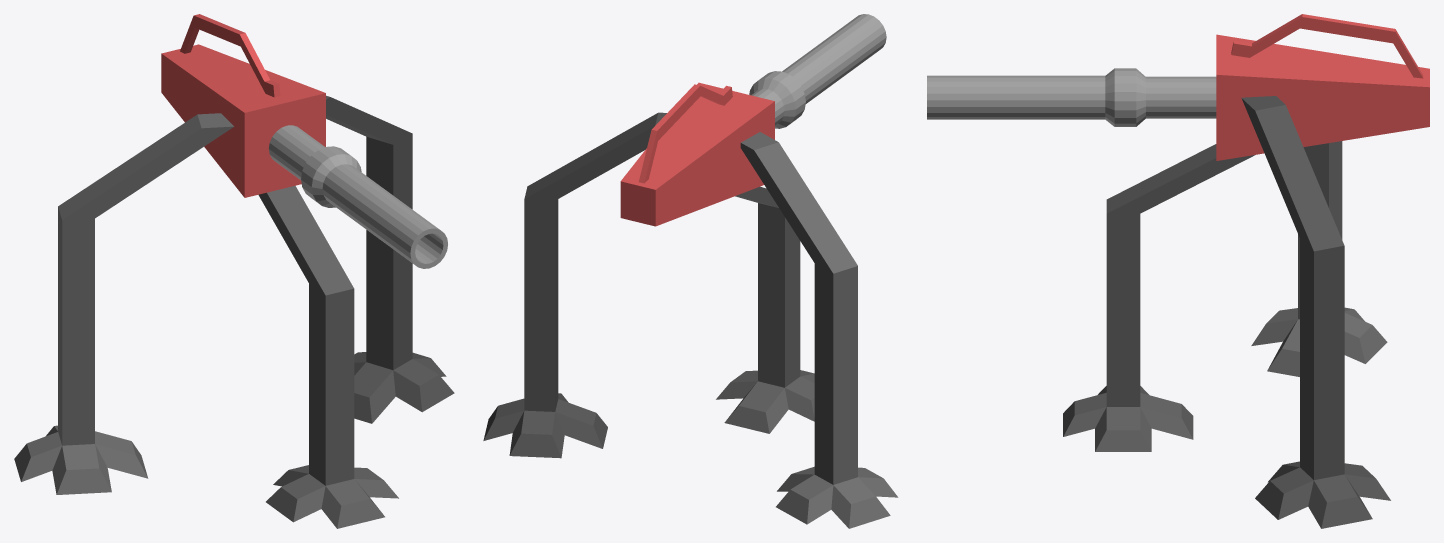
Rendered from Turret.fbx.
3 views of the same model, side by side, from view 1: azimuth 30°, elevation 25°; view 2: azimuth 150°, elevation 25°; view 3: azimuth 270°, elevation 25° (orthographic). The views are drawn at different scales.
Parts seen in each view (by area): view 1: pCube8; view 2: pCube8; view 3: pCube8.
Part boxes in pixels (x1=…): pCube8: x1=14, y1=14, x2=454, y2=528; pCube8: x1=483, y1=14, x2=898, y2=528; pCube8: x1=927, y1=14, x2=1429, y2=528.
Bounding box in the file's own units: 56.57 × 51.35 × 56.79.
